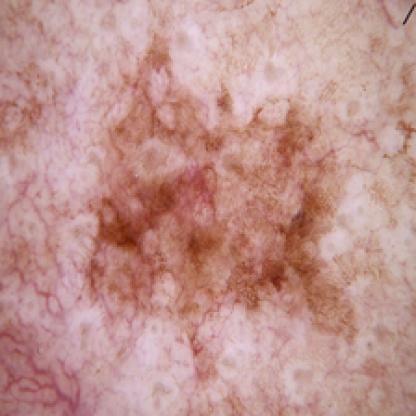Skin_Cancer-Malignant: (83, 32, 366, 352)
